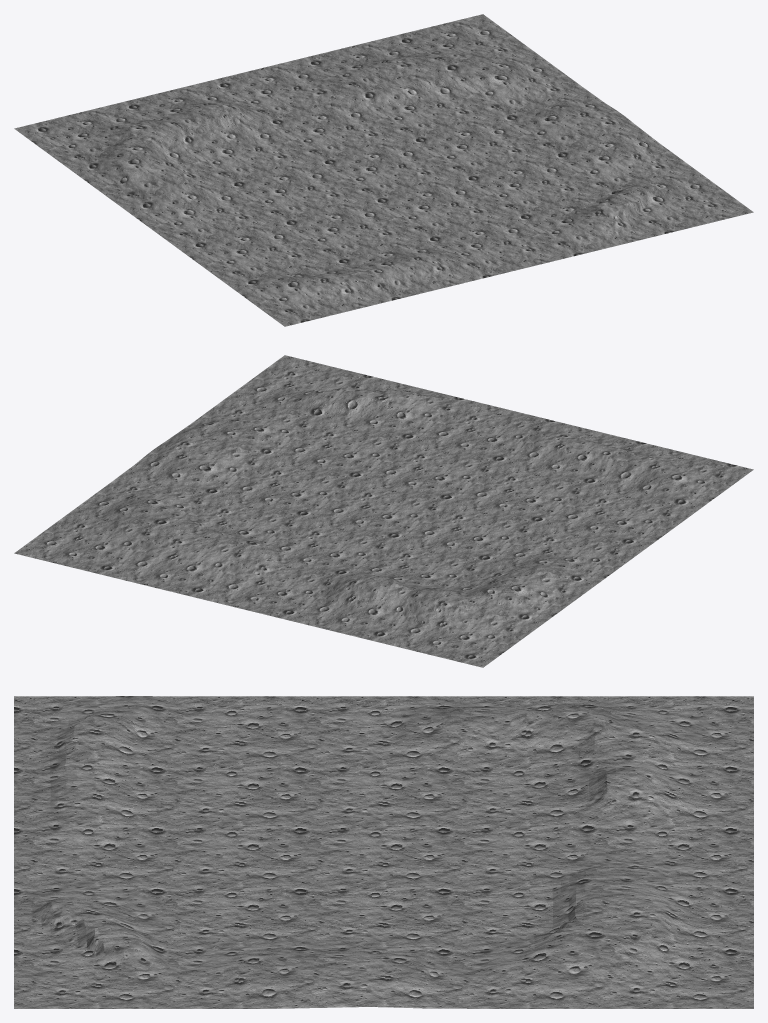
The model's file is moonterrain.obj.
3 renders of one model, top to bottom at view 1: azimuth 30°, elevation 25°; view 2: azimuth 150°, elevation 25°; view 3: azimuth 270°, elevation 25°, orthographic. The views are drawn at different scales.
Visible parts, largest first — view 1: Plane; view 2: Plane; view 3: Plane.
Boxes of the visible parts, <box> form: Plane: <box>14,14,753,326</box>; Plane: <box>14,355,753,667</box>; Plane: <box>14,696,753,1008</box>.
Bounding box in the file's own units: 60.03 × 1.88 × 60.
Materials: 1 (1 with a texture image).
